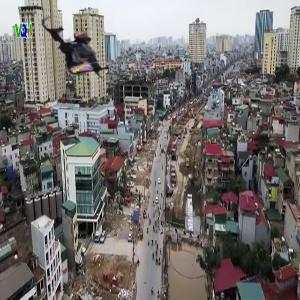drone: (39, 11, 115, 87)
